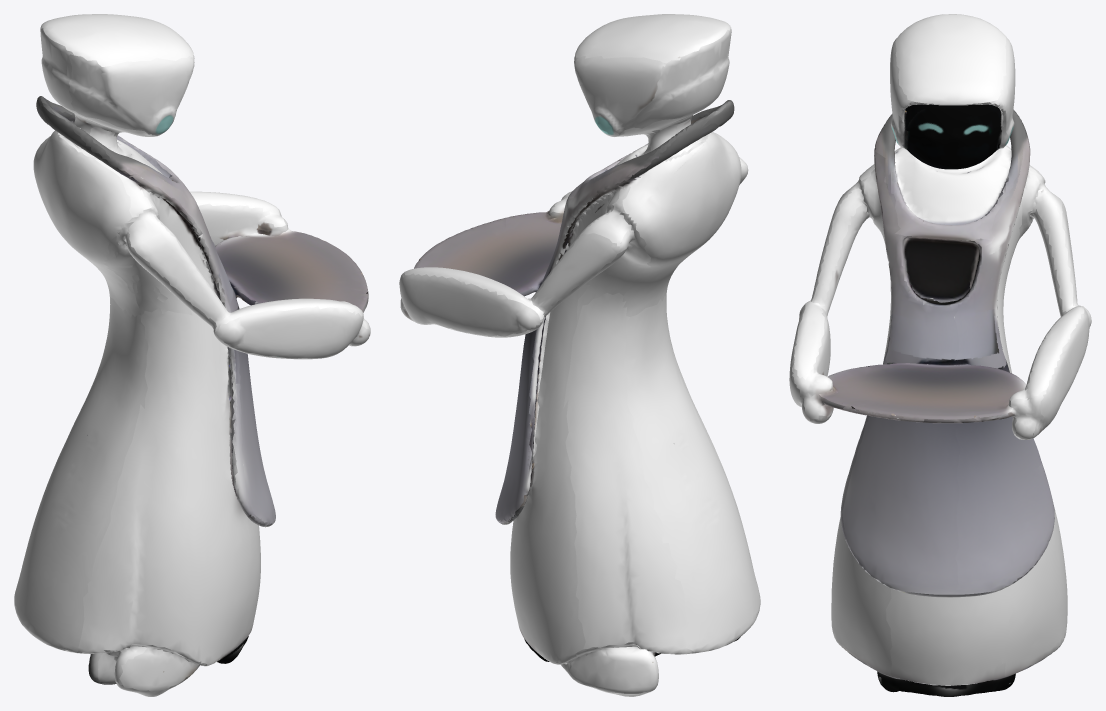
3 renders of one model, left to right at view 1: azimuth 30°, elevation 25°; view 2: azimuth 150°, elevation 25°; view 3: azimuth 270°, elevation 25°, orthographic. The views are drawn at different scales.
Visible parts, largest first — view 1: tmpya1oxyyy.ply; view 2: tmpya1oxyyy.ply; view 3: tmpya1oxyyy.ply.
Boxes of the visible parts, x1=… form: tmpya1oxyyy.ply: x1=14, y1=14, x2=370, y2=696; tmpya1oxyyy.ply: x1=399, y1=14, x2=760, y2=696; tmpya1oxyyy.ply: x1=789, y1=14, x2=1091, y2=696.
Bounding box in the file's own units: 1 × 1.98 × 0.8871.
1 material, 1 textured.
